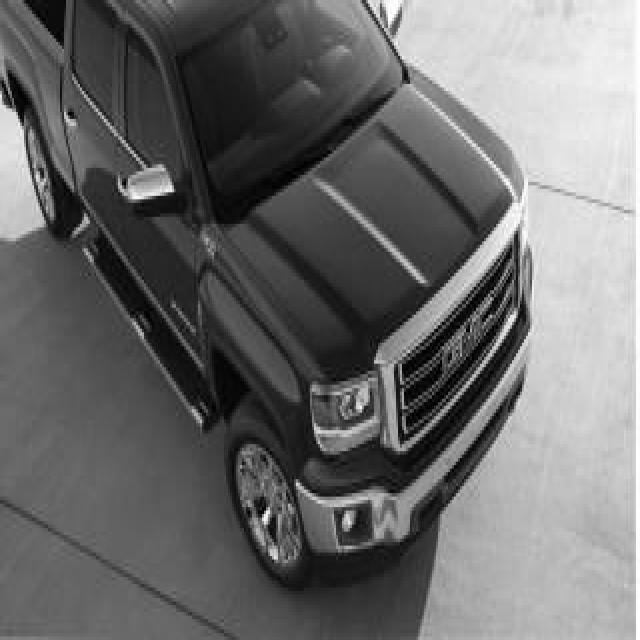Car: (0, 0, 533, 585)
